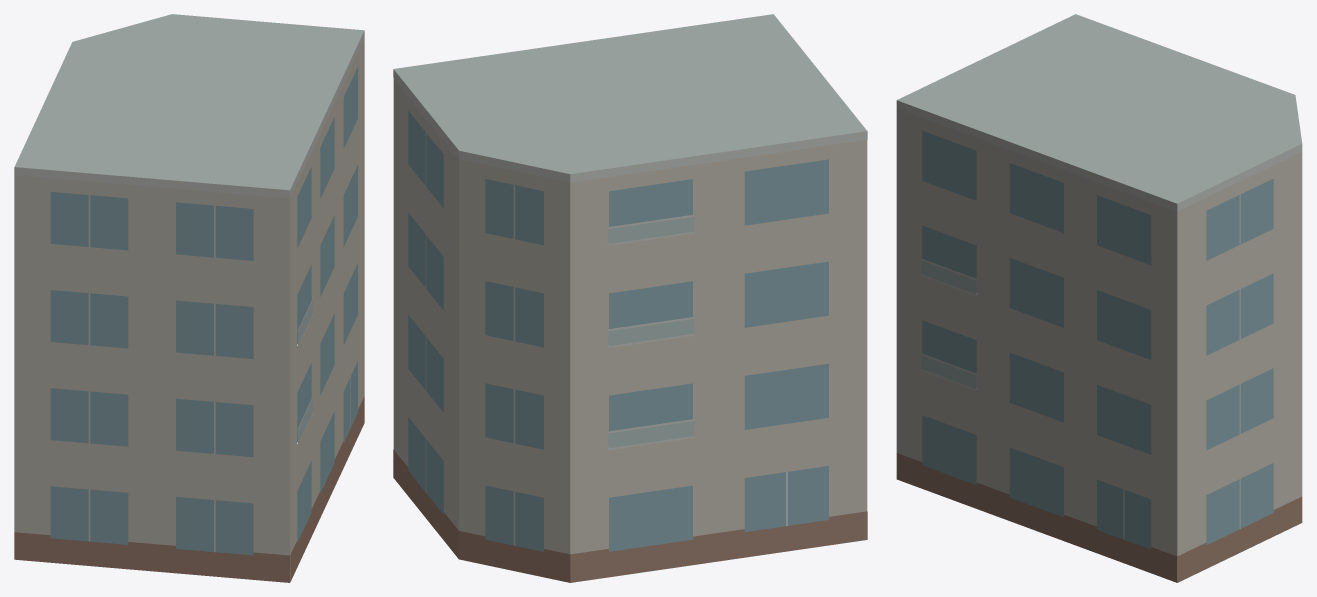
The model's file is survey-upis-32667563.glb.
3 renders of one model, left to right at view 1: azimuth 30°, elevation 25°; view 2: azimuth 150°, elevation 25°; view 3: azimuth 270°, elevation 25°, orthographic. The views are drawn at different scales.
Parts seen in each view (by area): view 1: survey-upis-32667563.tmp; view 2: survey-upis-32667563.tmp; view 3: survey-upis-32667563.tmp.
Part boxes in pixels (x1,y1,x2,y2): survey-upis-32667563.tmp: (14, 14, 364, 582); survey-upis-32667563.tmp: (393, 14, 867, 582); survey-upis-32667563.tmp: (896, 14, 1302, 582).
Size of the model in its own units: 12.68 by 11.8 by 11.45.
